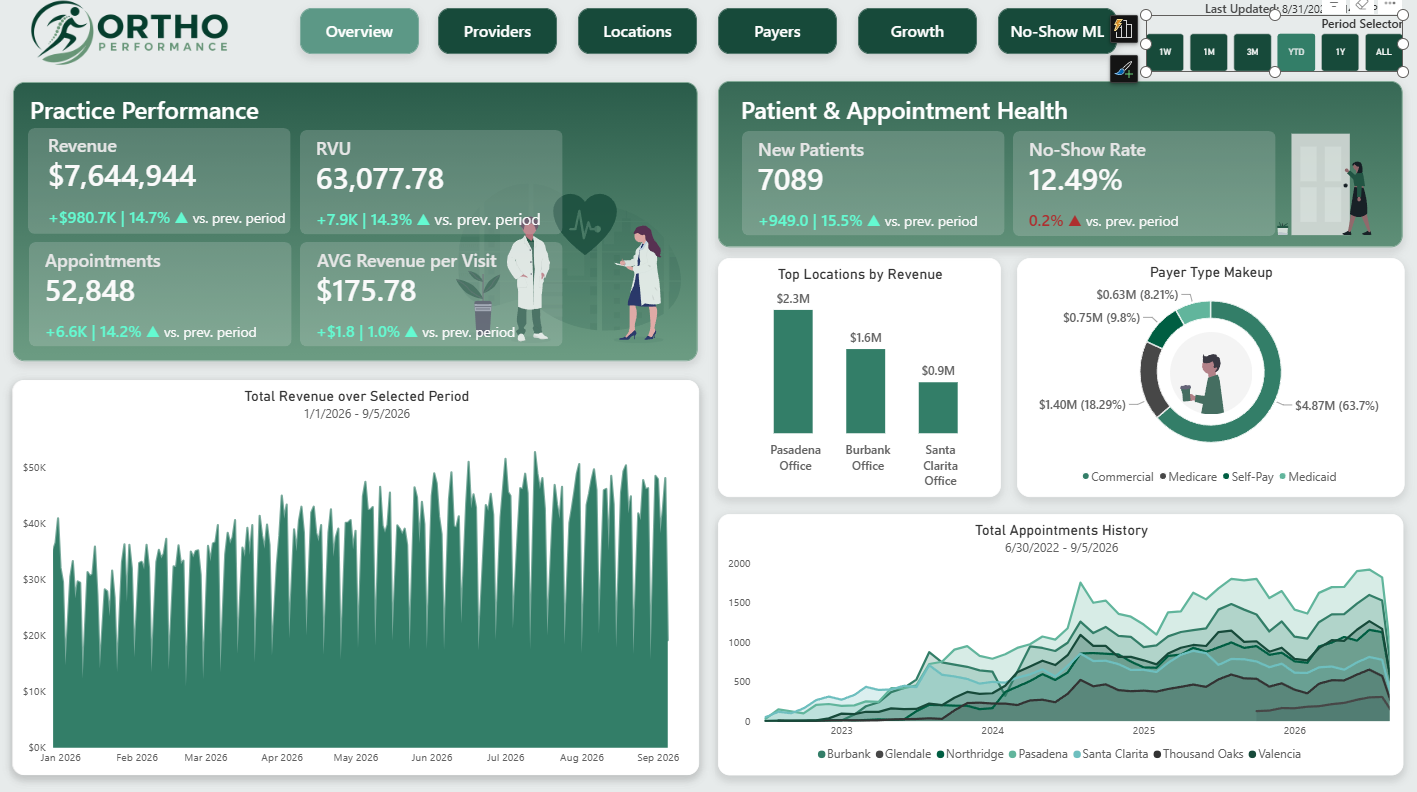

This screenshot's page, from the dashboard's own definition file:
{"tool":"powerbi","page":{"name":"Page 2","canvas":[1920,1080],"ordinal":1},"visuals":[{"type":"image","box":[24.2,18.1,294.8,104.8],"z":0},{"type":"cardVisual","fields":{"Data":["_Measures.Last Updated At"]},"box":[1704.1,19.4,202.6,34.8],"z":0,"group":"g1"},{"type":"textbox","box":[1616.1,18.1,116.4,39.3],"z":1000,"group":"g1"},{"type":"cardVisual","fields":{"Data":["_Measures.Max Overall Date"]},"box":[1637.2,102.8,202.6,34.8],"z":1000,"group":"g2"},{"type":"textbox","box":[415.7,18.1,190.1,62.9],"z":2000},{"type":"textbox","box":[1504.5,100.9,184.6,39.3],"z":3000,"group":"g2"},{"type":"textbox","box":[641,18.1,190.1,62.9],"z":4000},{"type":"textbox","box":[1313.8,18.1,190.1,62.9],"z":5000},{"type":"textbox","box":[864.8,18.1,190.1,62.9],"z":6000},{"type":"textbox","box":[1090,18.1,190.1,62.9],"z":7000},{"type":"group","id":"g1","title":"Group 1","box":[1616.1,18.1,291.8,39.3],"z":8000},{"type":"shape","box":[606.2,0,34.8,104.3],"z":9000},{"type":"shape","box":[1279,0,34.8,104.3],"z":10000},{"type":"lineChart","fields":{"Category":["Date.Calendar.Year","Date.Calendar.Month"],"Y":["_Measures.Total Revenue"]},"box":[24.4,495.4,908,557.2],"z":11000},{"type":"shape","box":[0,0,24.4,104],"z":12000},{"type":"shape","box":[1895.6,0,24.4,104],"z":13000},{"type":"cardVisual","fields":{"Data":["_Measures.Total Appointments"]},"box":[792.7,269.6,334.6,181.9],"z":14000},{"type":"cardVisual","fields":{"Data":["_Measures.Total Revenue"]},"box":[24.4,269.6,334.6,181.9],"z":15000},{"type":"cardVisual","fields":{"Data":["_Measures.No-Show Rate"]},"box":[1169.5,269.6,334.6,181.9],"z":16000},{"type":"cardVisual","fields":{"Data":["_Measures.New Patient Conversion"]},"box":[1561,269.6,334.6,181.9],"z":17000},{"type":"cardVisual","fields":{"Data":["_Measures.Total RVU"]},"box":[415.8,269.6,334.6,181.9],"z":18000},{"type":"columnChart","fields":{"Category":["public locations.location_name"],"Y":["_Measures.Total Revenue"]},"box":[987.6,495.4,908,557.2],"z":19000},{"type":"advancedSlicerVisual","fields":{"Values":["Selected Period.Period"]},"box":[1378.8,170.5,516.4,49.7],"z":20000},{"type":"cardVisual","fields":{"Data":["_Measures.Selected Period"]},"box":[416,134,190,150],"z":21000},{"type":"cardVisual","fields":{"Data":["_Measures.Previous Selected Min Date"]},"box":[11.8,19.1,482.3,219.2],"z":22000},{"type":"cardVisual","fields":{"Data":["_Measures.Previous Selected Max Date"]},"box":[571.3,29.4,482.3,219.2],"z":23000},{"type":"cardVisual","fields":{"Data":["_Measures.Selected Min Date"]},"box":[849.7,270.1,482.3,219.2],"z":24000},{"type":"cardVisual","fields":{"Data":["_Measures.Max Overall Date"]},"box":[1357.5,275.3,482.3,219.2],"z":25000},{"type":"cardVisual","fields":{"Data":["_Measures.Total Revenue (Period)"]},"box":[945.3,86.9,334.6,181.9],"z":25001},{"type":"cardVisual","fields":{"Data":["_Measures.Total Revenue (Prior Period)"]},"box":[288.9,603.5,334.6,181.9],"z":25002},{"type":"cardVisual","fields":{"Data":["_Measures.Total Revenue (Period) % Change"]},"box":[1128.4,482.1,334.6,181.9],"z":25003},{"type":"cardVisual","fields":{"Data":["_Measures.Total Revenue"]},"box":[793.3,584.7,471.9,273.6],"z":25004},{"type":"card","box":[100,100,300,300],"z":25005},{"type":"card","box":[110,110,300,300],"z":25006},{"type":"card","fields":{"Values":["_Measures.No-Show Rate (Period) KPI Label"]},"box":[100,100,300,300],"z":25007},{"type":"group","id":"g2","title":"Group 2","box":[1504.5,100.9,335.3,39.3],"z":25008},{"type":"lineClusteredColumnComboChart","fields":{"Category":["Date.Date"],"Y":["_Measures.Total Revenue"]},"box":[109.4,177.8,908,557.2],"z":25009},{"type":"card","fields":{"Values":["_Measures.Total Revenue (Period)"]},"box":[511.2,162.4,447.9,198.3],"z":25010},{"type":"columnChart","fields":{"Category":["public locations.location_name"],"Y":["_Measures.Total Revenue (Period)"]},"box":[1012.1,300.9,908,557.2],"z":25011}]}

Visuals, with their boxes on the page's 1920x1080 design canvas (x1, y1, x2, y2). These are canvas units, not pixel positions in the 1417x792 screenshot, which may show the page scaled, cropped or inside an application window:
image: {"left": 24, "top": 18, "right": 319, "bottom": 123}
cardVisual - _Measures.Last Updated At: {"left": 1704, "top": 19, "right": 1907, "bottom": 54}
textbox: {"left": 1616, "top": 18, "right": 1732, "bottom": 57}
cardVisual - _Measures.Max Overall Date: {"left": 1637, "top": 103, "right": 1840, "bottom": 138}
textbox: {"left": 416, "top": 18, "right": 606, "bottom": 81}
textbox: {"left": 1504, "top": 101, "right": 1689, "bottom": 140}
textbox: {"left": 641, "top": 18, "right": 831, "bottom": 81}
textbox: {"left": 1314, "top": 18, "right": 1504, "bottom": 81}
textbox: {"left": 865, "top": 18, "right": 1055, "bottom": 81}
textbox: {"left": 1090, "top": 18, "right": 1280, "bottom": 81}
"Group 1" group: {"left": 1616, "top": 18, "right": 1908, "bottom": 57}
shape: {"left": 606, "top": 0, "right": 641, "bottom": 104}
shape: {"left": 1279, "top": 0, "right": 1314, "bottom": 104}
lineChart - Date.Calendar.Year x Date.Calendar.Month: {"left": 24, "top": 495, "right": 932, "bottom": 1053}
shape: {"left": 0, "top": 0, "right": 24, "bottom": 104}
shape: {"left": 1896, "top": 0, "right": 1920, "bottom": 104}
cardVisual - _Measures.Total Appointments: {"left": 793, "top": 270, "right": 1127, "bottom": 452}
cardVisual - _Measures.Total Revenue: {"left": 24, "top": 270, "right": 359, "bottom": 452}
cardVisual - _Measures.No-Show Rate: {"left": 1170, "top": 270, "right": 1504, "bottom": 452}
cardVisual - _Measures.New Patient Conversion: {"left": 1561, "top": 270, "right": 1896, "bottom": 452}
cardVisual - _Measures.Total RVU: {"left": 416, "top": 270, "right": 750, "bottom": 452}
columnChart - public locations.location_name x _Measures.Total Revenue: {"left": 988, "top": 495, "right": 1896, "bottom": 1053}
advancedSlicerVisual - Selected Period.Period: {"left": 1379, "top": 170, "right": 1895, "bottom": 220}
cardVisual - _Measures.Selected Period: {"left": 416, "top": 134, "right": 606, "bottom": 284}
cardVisual - _Measures.Previous Selected Min Date: {"left": 12, "top": 19, "right": 494, "bottom": 238}
cardVisual - _Measures.Previous Selected Max Date: {"left": 571, "top": 29, "right": 1054, "bottom": 249}
cardVisual - _Measures.Selected Min Date: {"left": 850, "top": 270, "right": 1332, "bottom": 489}
cardVisual - _Measures.Max Overall Date: {"left": 1358, "top": 275, "right": 1840, "bottom": 494}
cardVisual - _Measures.Total Revenue (Period): {"left": 945, "top": 87, "right": 1280, "bottom": 269}
cardVisual - _Measures.Total Revenue (Prior Period): {"left": 289, "top": 604, "right": 624, "bottom": 785}
cardVisual - _Measures.Total Revenue (Period) % Change: {"left": 1128, "top": 482, "right": 1463, "bottom": 664}
cardVisual - _Measures.Total Revenue: {"left": 793, "top": 585, "right": 1265, "bottom": 858}
card: {"left": 100, "top": 100, "right": 400, "bottom": 400}
card: {"left": 110, "top": 110, "right": 410, "bottom": 410}
card - _Measures.No-Show Rate (Period) KPI Label: {"left": 100, "top": 100, "right": 400, "bottom": 400}
"Group 2" group: {"left": 1504, "top": 101, "right": 1840, "bottom": 140}
lineClusteredColumnComboChart - Date.Date x _Measures.Total Revenue: {"left": 109, "top": 178, "right": 1017, "bottom": 735}
card - _Measures.Total Revenue (Period): {"left": 511, "top": 162, "right": 959, "bottom": 361}
columnChart - public locations.location_name x _Measures.Total Revenue (Period): {"left": 1012, "top": 301, "right": 1920, "bottom": 858}
